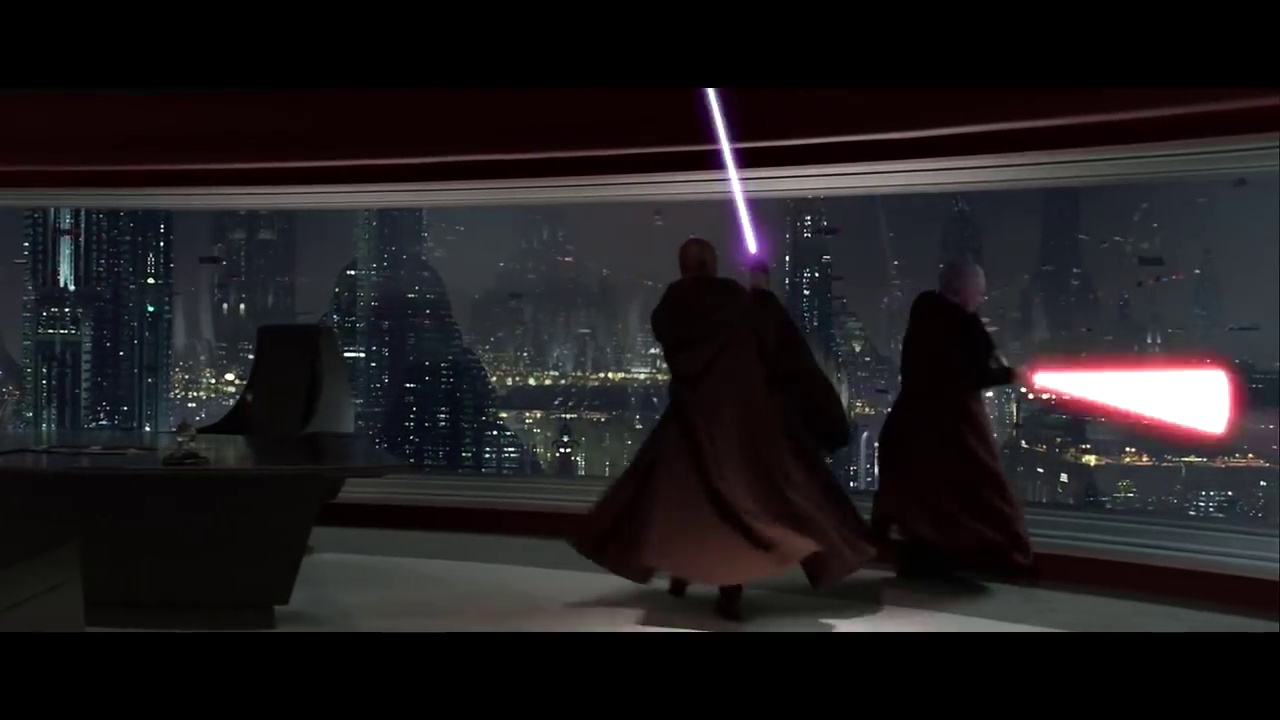lightsaber: (1020, 359, 1252, 445), (699, 85, 784, 284)
